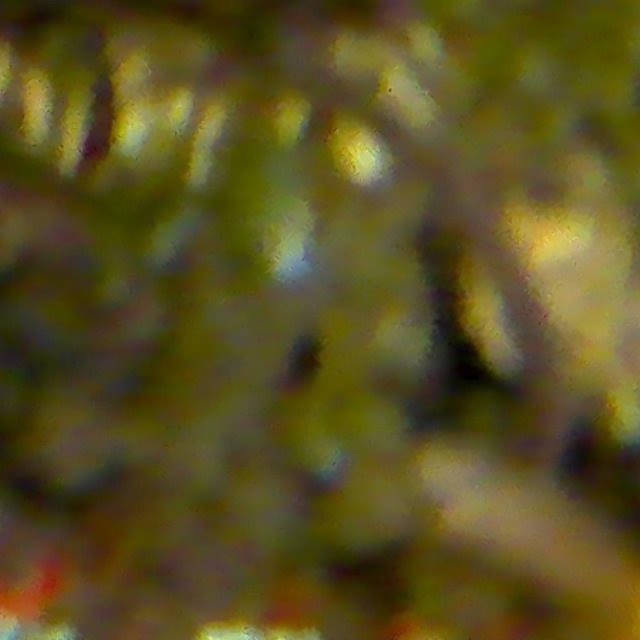SeaGrape: (329, 464, 425, 554), (341, 392, 412, 462), (288, 414, 351, 482)
